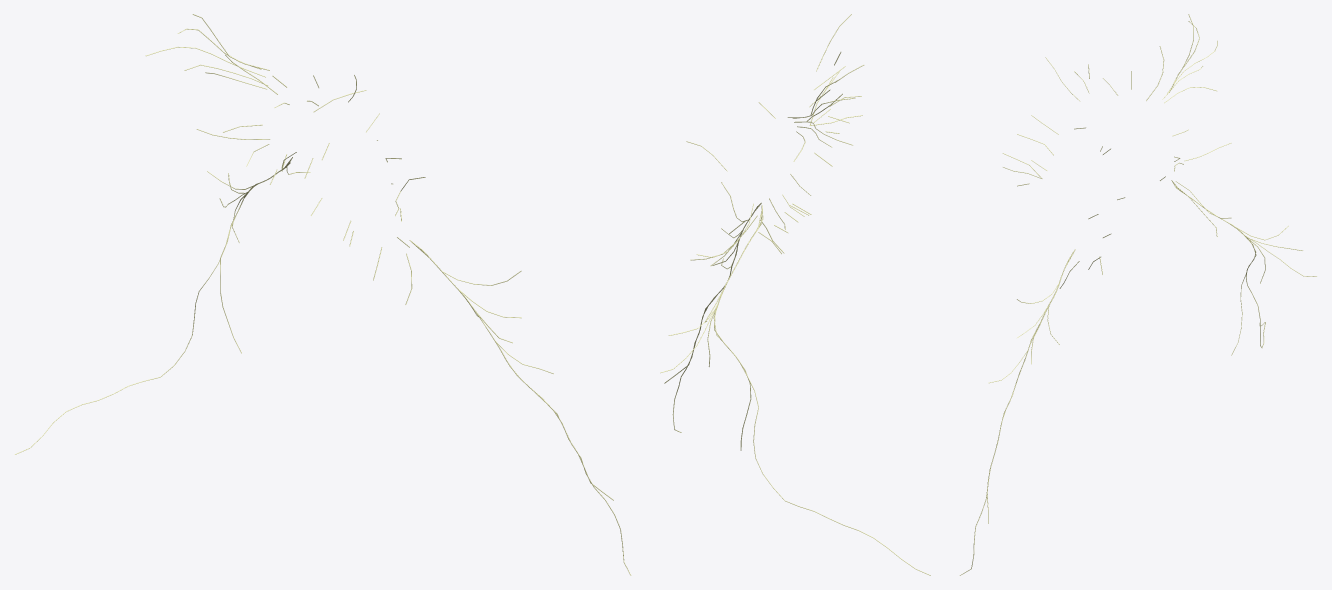
The picture shows the model from 3 angles, left to right: view 1: azimuth 30°, elevation 25°; view 2: azimuth 150°, elevation 25°; view 3: azimuth 270°, elevation 25°; orthographic projection. The views are drawn at different scales.
Parts seen in each view (by area): view 1: 112827872-0000; view 2: 112827872-0000; view 3: 112827872-0000.
Boxes of the visible parts, box(x1,y1,x2,y2) form: 112827872-0000: box(14, 14, 631, 575); 112827872-0000: box(660, 14, 930, 575); 112827872-0000: box(959, 14, 1316, 575).
Bounding box in the file's own units: 29.03 × 34.03 × 25.03.
